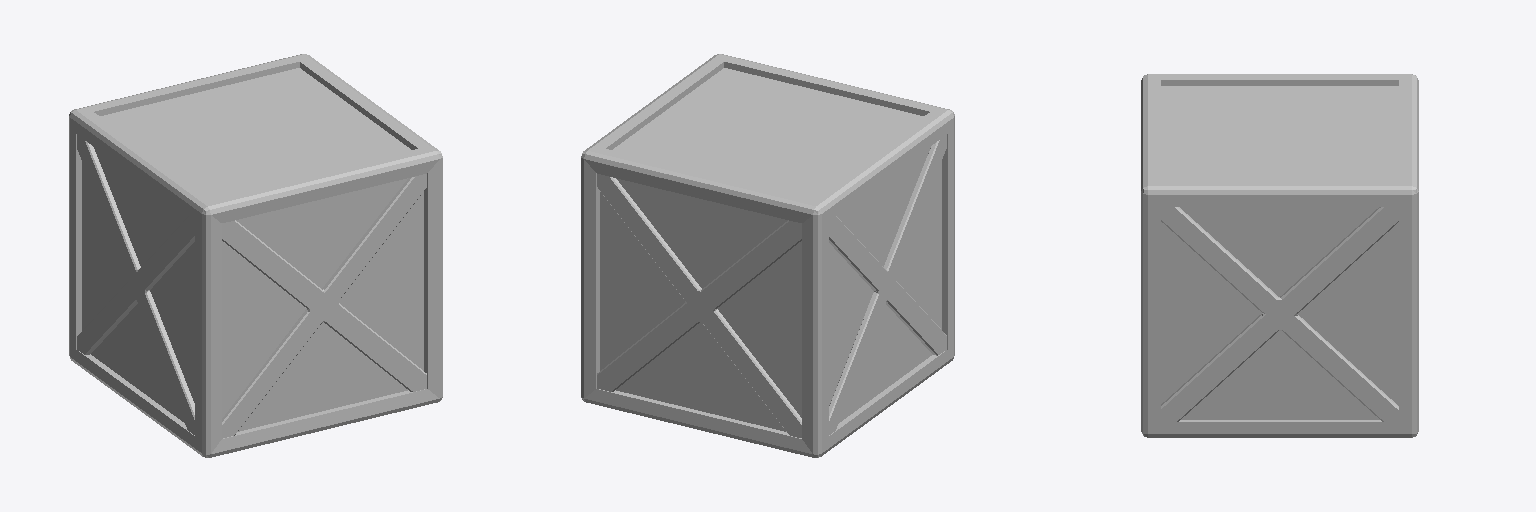
Rendered from Crate.obj.
3 views of the same model, side by side, from view 1: azimuth 30°, elevation 25°; view 2: azimuth 150°, elevation 25°; view 3: azimuth 270°, elevation 25° (orthographic).
Parts seen in each view (by area): view 1: Caja; view 2: Caja; view 3: Caja.
Part boxes in pixels (x1,y1,x2,y2): Caja: (69,54,442,457); Caja: (581,54,954,457); Caja: (1141,74,1418,437).
Size of the model in its own units: 1 by 1 by 1.